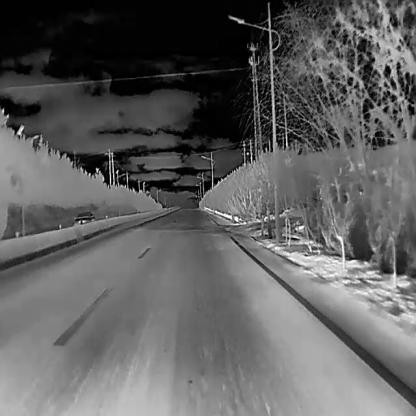car: (74, 210, 94, 226)
